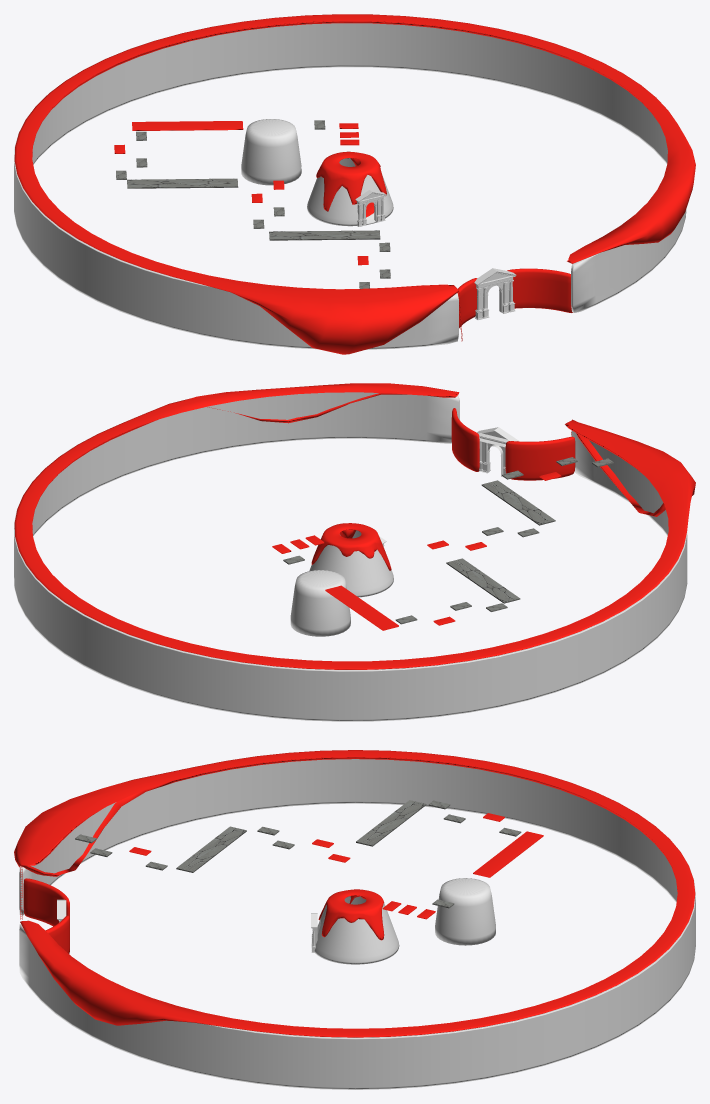
The model's file is cittàjelly.fbx.
3 renders of one model, top to bottom at view 1: azimuth 30°, elevation 25°; view 2: azimuth 150°, elevation 25°; view 3: azimuth 270°, elevation 25°, orthographic.
Visible parts, largest first — view 1: Cylinder.003, Cylinder.004, Cylinder.005, Cylinder.006, Cylinder.001, Cylinder, Cube.011, Cube.008, Cube.013; view 2: Cylinder.003, Cylinder.004, Cylinder.006, Cylinder.005, Cylinder, Cylinder.001, Cube.011, Cube.008, Cube.013; view 3: Cylinder.003, Cylinder.004, Cylinder.005, Cylinder, Cylinder.006, Cylinder.001, Cube.011, Cube.008, Cube.013.
Part boxes in pixels (bbox=[...]): Cylinder.003: bbox=[14, 23, 686, 349]; Cylinder.004: bbox=[14, 14, 695, 354]; Cylinder.005: bbox=[241, 119, 301, 185]; Cylinder.006: bbox=[457, 268, 572, 328]; Cylinder.001: bbox=[316, 151, 386, 211]; Cylinder: bbox=[307, 158, 393, 226]; Cube.011: bbox=[269, 230, 380, 240]; Cube.008: bbox=[127, 178, 238, 188]; Cube.013: bbox=[132, 121, 243, 130]; Cylinder.003: bbox=[14, 392, 687, 721]; Cylinder.004: bbox=[14, 383, 695, 669]; Cylinder.006: bbox=[451, 408, 575, 480]; Cylinder.005: bbox=[290, 570, 350, 636]; Cylinder: bbox=[309, 530, 393, 597]; Cylinder.001: bbox=[311, 523, 391, 570]; Cube.011: bbox=[481, 480, 555, 525]; Cube.008: bbox=[446, 558, 520, 603]; Cube.013: bbox=[325, 585, 398, 630]; Cylinder.003: bbox=[19, 759, 695, 1089]; Cylinder.004: bbox=[14, 750, 695, 1037]; Cylinder.005: bbox=[435, 878, 495, 945]; Cylinder: bbox=[311, 896, 399, 964]; Cylinder.006: bbox=[23, 878, 69, 953]; Cylinder.001: bbox=[318, 889, 384, 940]; Cube.011: bbox=[176, 826, 246, 872]; Cube.008: bbox=[356, 800, 426, 846]; Cube.013: bbox=[473, 831, 543, 877].
Bounding box in the file's own units: 32681 × 2903 × 32729.
